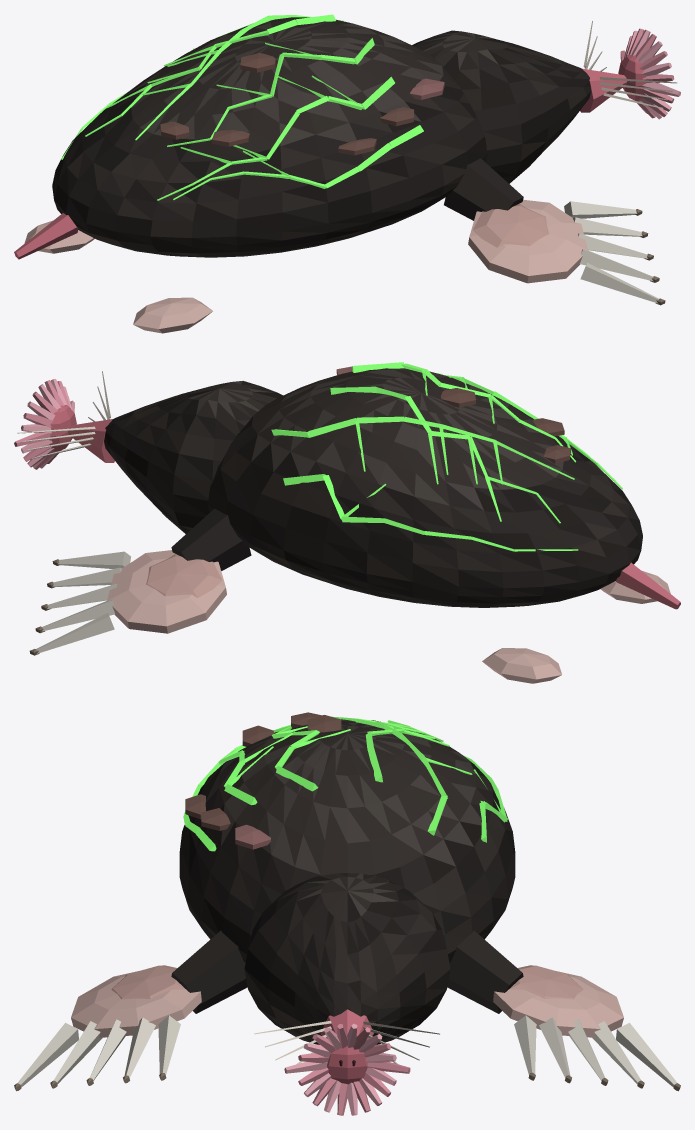
Rendered from wild-bosses-old-blind.glb.
The picture shows the model from 3 angles, top to bottom: view 1: azimuth 30°, elevation 25°; view 2: azimuth 150°, elevation 25°; view 3: azimuth 270°, elevation 25°; orthographic projection. The views are drawn at different scales.
Size of the model in its own units: 392 by 127 by 324.
